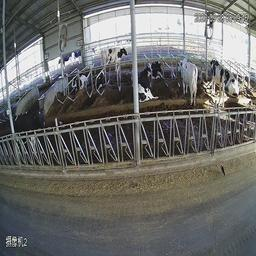cow: (174, 55, 201, 105), (100, 38, 128, 79), (207, 52, 226, 107), (140, 61, 158, 109), (226, 63, 242, 103), (149, 52, 169, 84), (93, 68, 107, 102), (70, 71, 87, 98)
